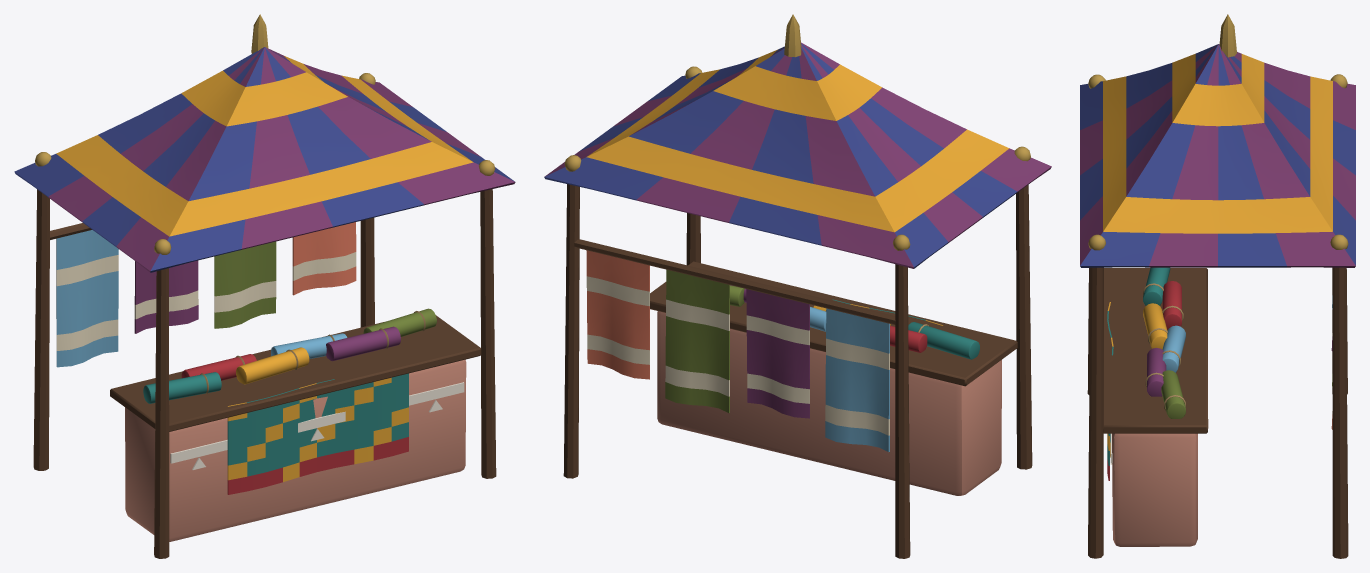
Rendered from deco_market_stall_cloth.fbx.
3 renders of one model, left to right at view 1: azimuth 30°, elevation 25°; view 2: azimuth 150°, elevation 25°; view 3: azimuth 270°, elevation 25°, orthographic.
Visible parts, largest first — view 1: MarketStall_Cloth_Roof, MarketStall_Cloth_Counter, MarketStall_Cloth_HangingCloth, MarketStall_Cloth_Poles, MarketStall_Cloth_DrapedRug, MarketStall_Cloth_CounterTop, MarketStall_Cloth_Bolts; view 2: MarketStall_Cloth_Roof, MarketStall_Cloth_HangingCloth, MarketStall_Cloth_Counter, MarketStall_Cloth_Poles, MarketStall_Cloth_CounterTop, MarketStall_Cloth_Bolts; view 3: MarketStall_Cloth_Roof, MarketStall_Cloth_CounterTop, MarketStall_Cloth_Poles, MarketStall_Cloth_Counter, MarketStall_Cloth_Bolts.
Boxes of the visible parts, x1,y1,x2,y2 form: MarketStall_Cloth_Roof: (14, 14, 515, 272); MarketStall_Cloth_Counter: (125, 359, 466, 541); MarketStall_Cloth_HangingCloth: (56, 222, 356, 367); MarketStall_Cloth_Poles: (33, 73, 496, 558); MarketStall_Cloth_DrapedRug: (227, 373, 408, 494); MarketStall_Cloth_CounterTop: (110, 315, 480, 431); MarketStall_Cloth_Bolts: (143, 308, 436, 403); MarketStall_Cloth_Roof: (544, 14, 1051, 268); MarketStall_Cloth_HangingCloth: (586, 250, 889, 451); MarketStall_Cloth_Counter: (657, 311, 1001, 495); MarketStall_Cloth_Poles: (563, 66, 1032, 558); MarketStall_Cloth_CounterTop: (650, 261, 1017, 386); MarketStall_Cloth_Bolts: (730, 285, 979, 359); MarketStall_Cloth_Roof: (1080, 14, 1355, 267); MarketStall_Cloth_CounterTop: (1103, 268, 1208, 433); MarketStall_Cloth_Poles: (1087, 74, 1348, 558); MarketStall_Cloth_Counter: (1110, 433, 1197, 546); MarketStall_Cloth_Bolts: (1143, 267, 1185, 418).
Size of the model in its own units: 324 by 385 by 209.
